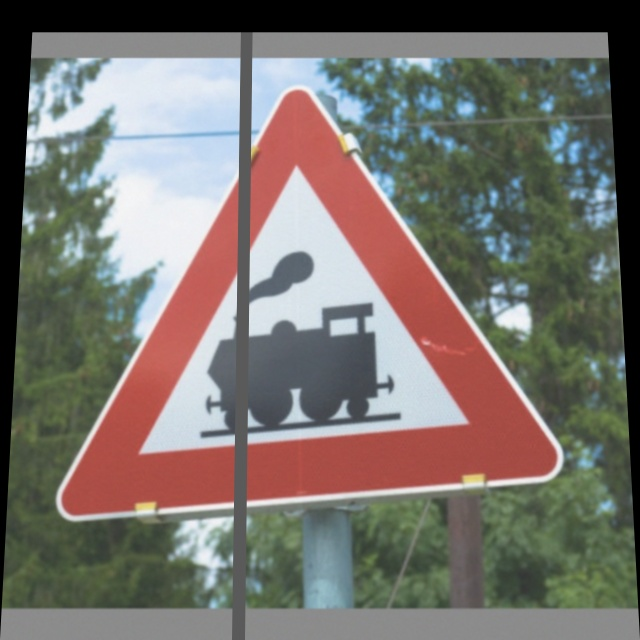Unguarded_Level_Crossing: (74, 89, 553, 507)
